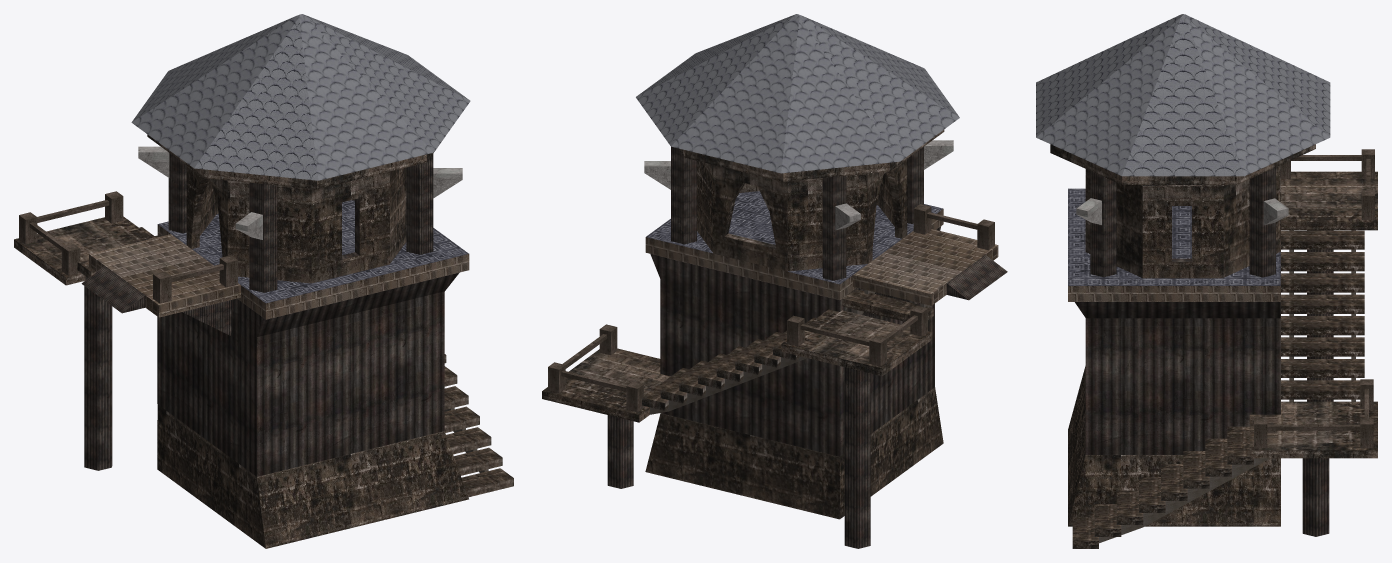
File: components_city_tower1.glb
The picture shows the model from 3 angles, left to right: view 1: azimuth 30°, elevation 25°; view 2: azimuth 150°, elevation 25°; view 3: azimuth 270°, elevation 25°; orthographic projection. The views are drawn at different scales.
Visible parts, largest first — view 1: city_tower1; view 2: city_tower1; view 3: city_tower1.
Boxes of the visible parts, left/top/right/bottom form: city_tower1: left=14, top=14, right=513, bottom=548; city_tower1: left=542, top=14, right=1007, bottom=548; city_tower1: left=1036, top=14, right=1377, bottom=548.
Size of the model in its own units: 23.5 by 28.65 by 19.31.
Materials: 9 (9 with a texture image).
